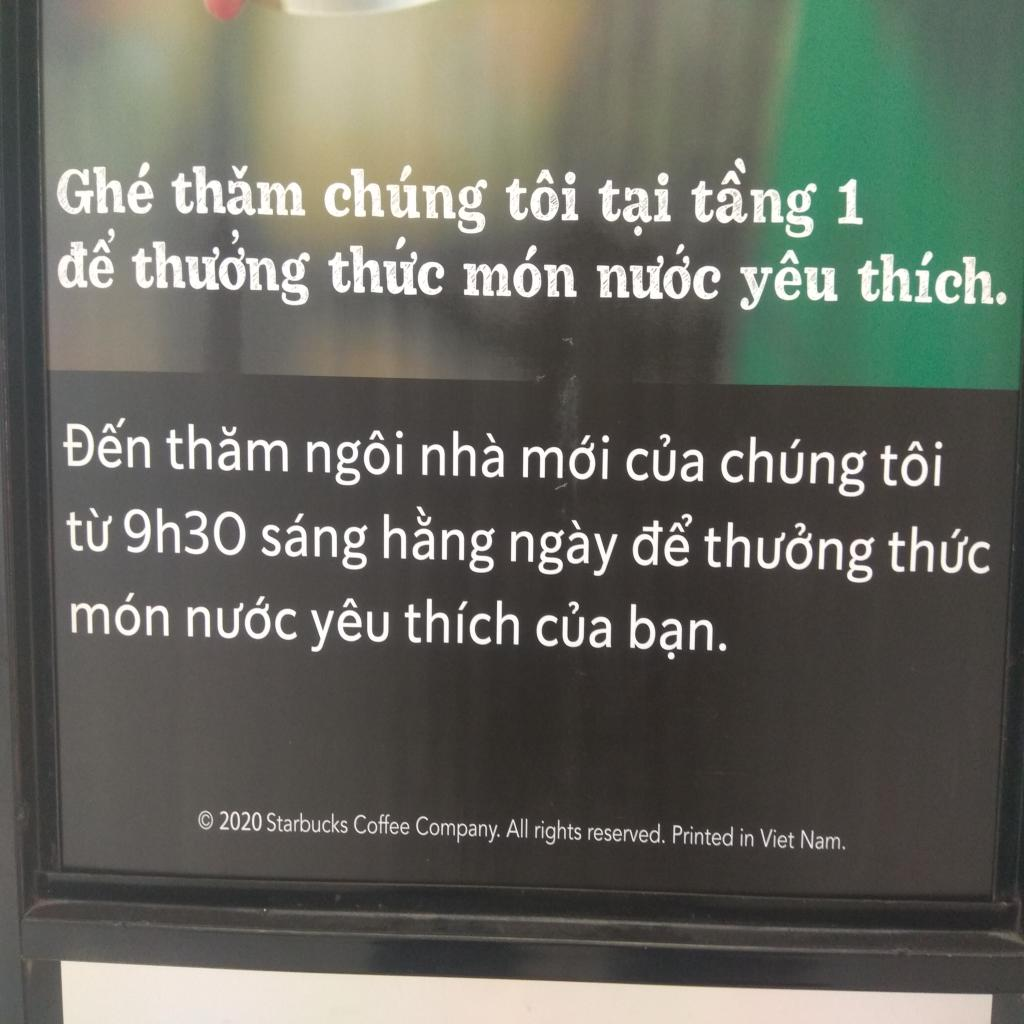text: (129, 223, 312, 308), (322, 160, 490, 236), (701, 515, 878, 584), (688, 156, 818, 241), (718, 431, 868, 500), (856, 246, 1008, 309), (381, 503, 498, 575), (324, 231, 446, 299), (595, 236, 722, 301), (508, 515, 624, 581), (168, 162, 306, 216), (736, 246, 840, 315), (163, 420, 291, 476), (460, 242, 579, 299), (122, 504, 248, 557), (260, 512, 368, 570), (403, 596, 521, 649), (629, 600, 728, 662), (304, 427, 406, 487), (884, 522, 991, 578), (56, 157, 154, 215), (185, 593, 298, 642), (596, 172, 672, 240), (61, 414, 152, 470), (69, 588, 170, 638), (307, 596, 391, 655), (623, 430, 706, 486), (420, 427, 506, 480), (521, 433, 612, 483), (503, 166, 579, 222), (533, 599, 613, 652), (630, 508, 695, 570), (56, 225, 116, 292), (879, 436, 945, 488), (62, 504, 114, 556), (415, 814, 501, 844), (265, 811, 348, 836), (587, 820, 665, 846), (672, 823, 735, 848), (354, 811, 410, 837), (836, 176, 864, 226), (534, 819, 582, 848), (217, 810, 263, 833), (758, 826, 796, 851), (505, 816, 529, 839), (739, 827, 755, 849), (200, 813, 211, 828)
